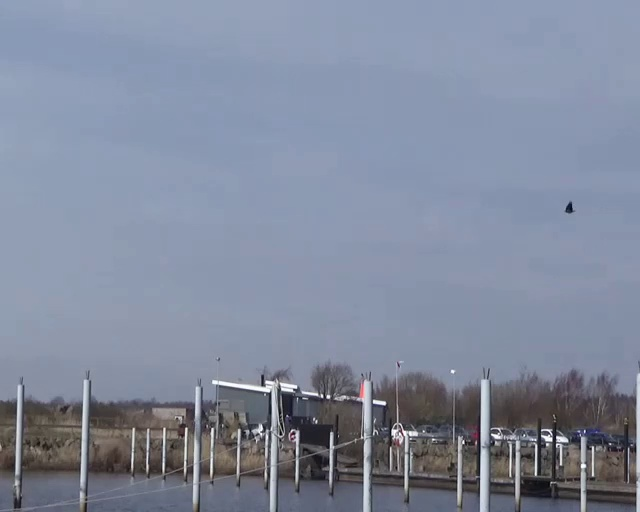BIRD: (565, 201, 574, 214)
